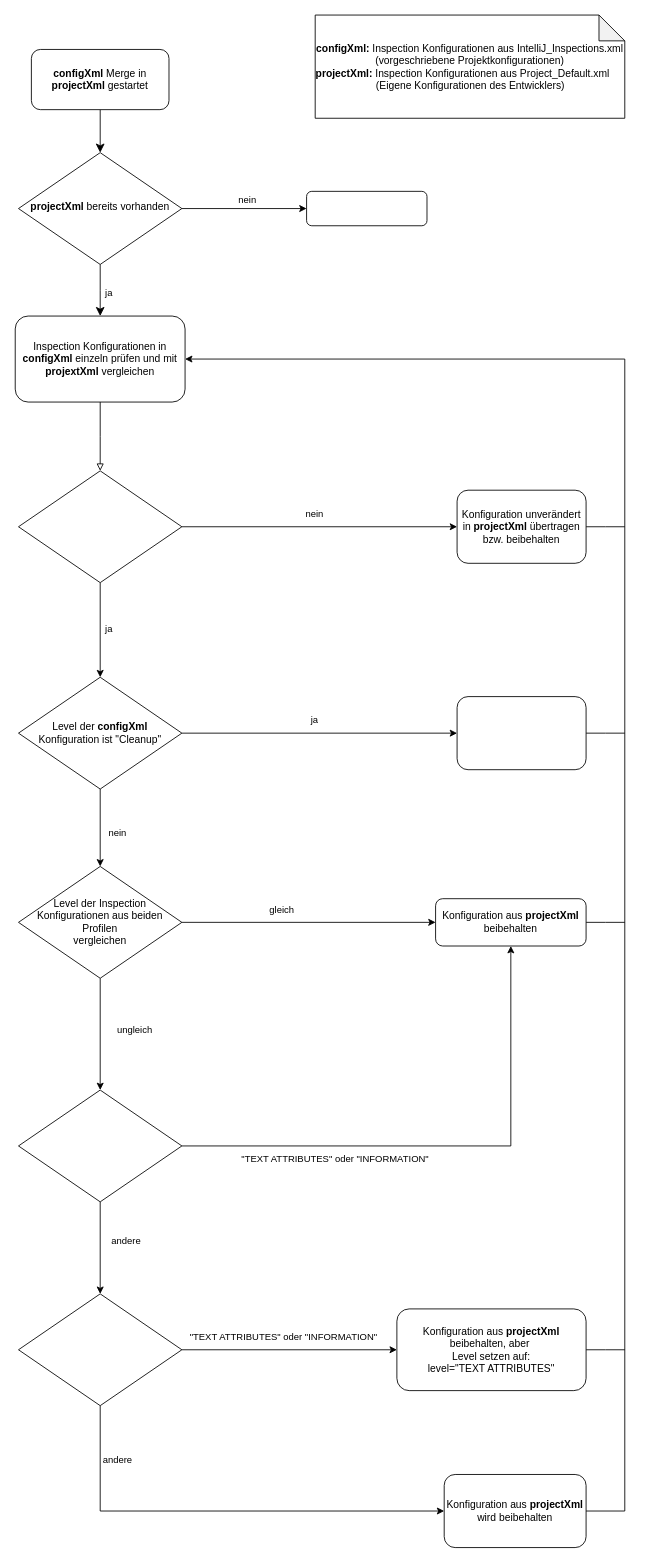
The diagram is 647 pixels wide and 1563 high, and some of its shapes have lost their labels. Here are the shapes that lost their labels. From the top down, the centre of each, then its label:
At (366,208): "configXml komplett übertragen".
At (100,526): "Inspection Konfiguration in beiden Profilen enthalten".
At (521,733): "Konfiguration aus configXml übernehmen".
At (100,1145): "projectXml Konfiguration Level prüfen".
At (100,1349): "configXml Konfiguration Level prüfen".
